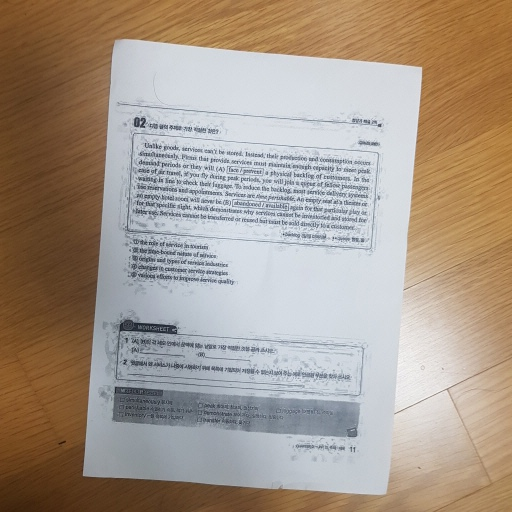Paper_2: (74, 25, 430, 502)
